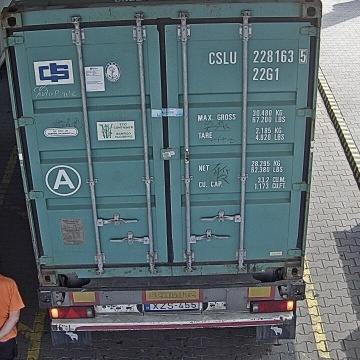serial_id: (209, 49, 307, 64)
